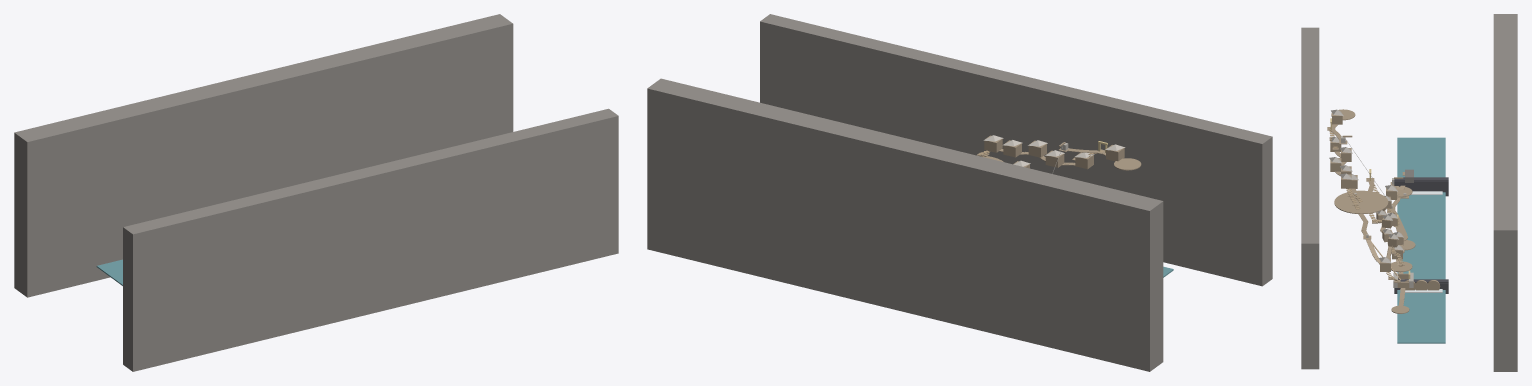
The picture shows the model from 3 angles, left to right: view 1: azimuth 30°, elevation 25°; view 2: azimuth 150°, elevation 25°; view 3: azimuth 270°, elevation 25°; orthographic projection. The views are drawn at different scales.
Parts seen in each view (by area): view 1: cliff_town, cliff_far; view 2: cliff_far, cliff_town; view 3: cliff_far, cliff_town, water_pool-mid, water_pool-downstream, water_pool-upstream, walk_lm_quay-deck, dam_dam-four_wall.
Part boxes in pixels (<box>): cliff_town: <box>123,108,618,371</box>; cliff_far: <box>14,14,513,297</box>; cliff_far: <box>647,78,1163,371</box>; cliff_town: <box>760,14,1272,286</box>; cliff_far: <box>1493,14,1517,371</box>; cliff_town: <box>1301,27,1319,369</box>; water_pool-mid: <box>1397,192,1445,279</box>; water_pool-downstream: <box>1397,290,1445,343</box>; water_pool-upstream: <box>1397,137,1445,177</box>; walk_lm_quay-deck: <box>1334,190,1388,213</box>; dam_dam-four_wall: <box>1394,180,1448,196</box>.
Size of the model in its own units: 170 by 52 by 72.
